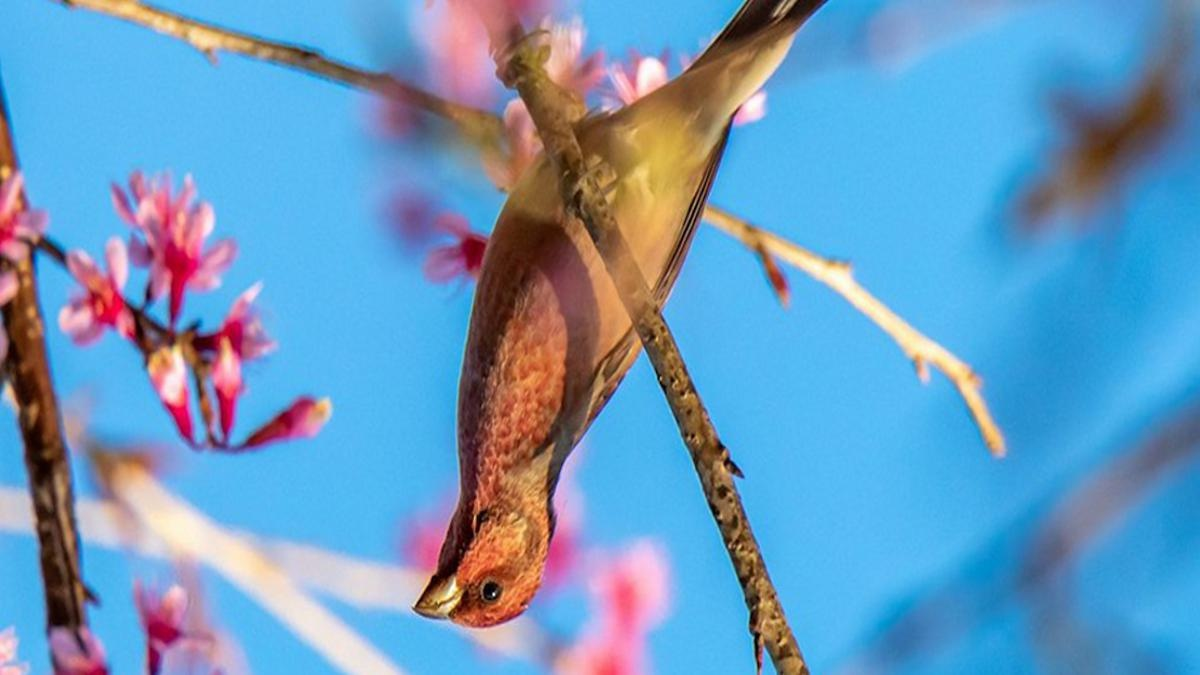rosefinch: (411, 123, 757, 641)
